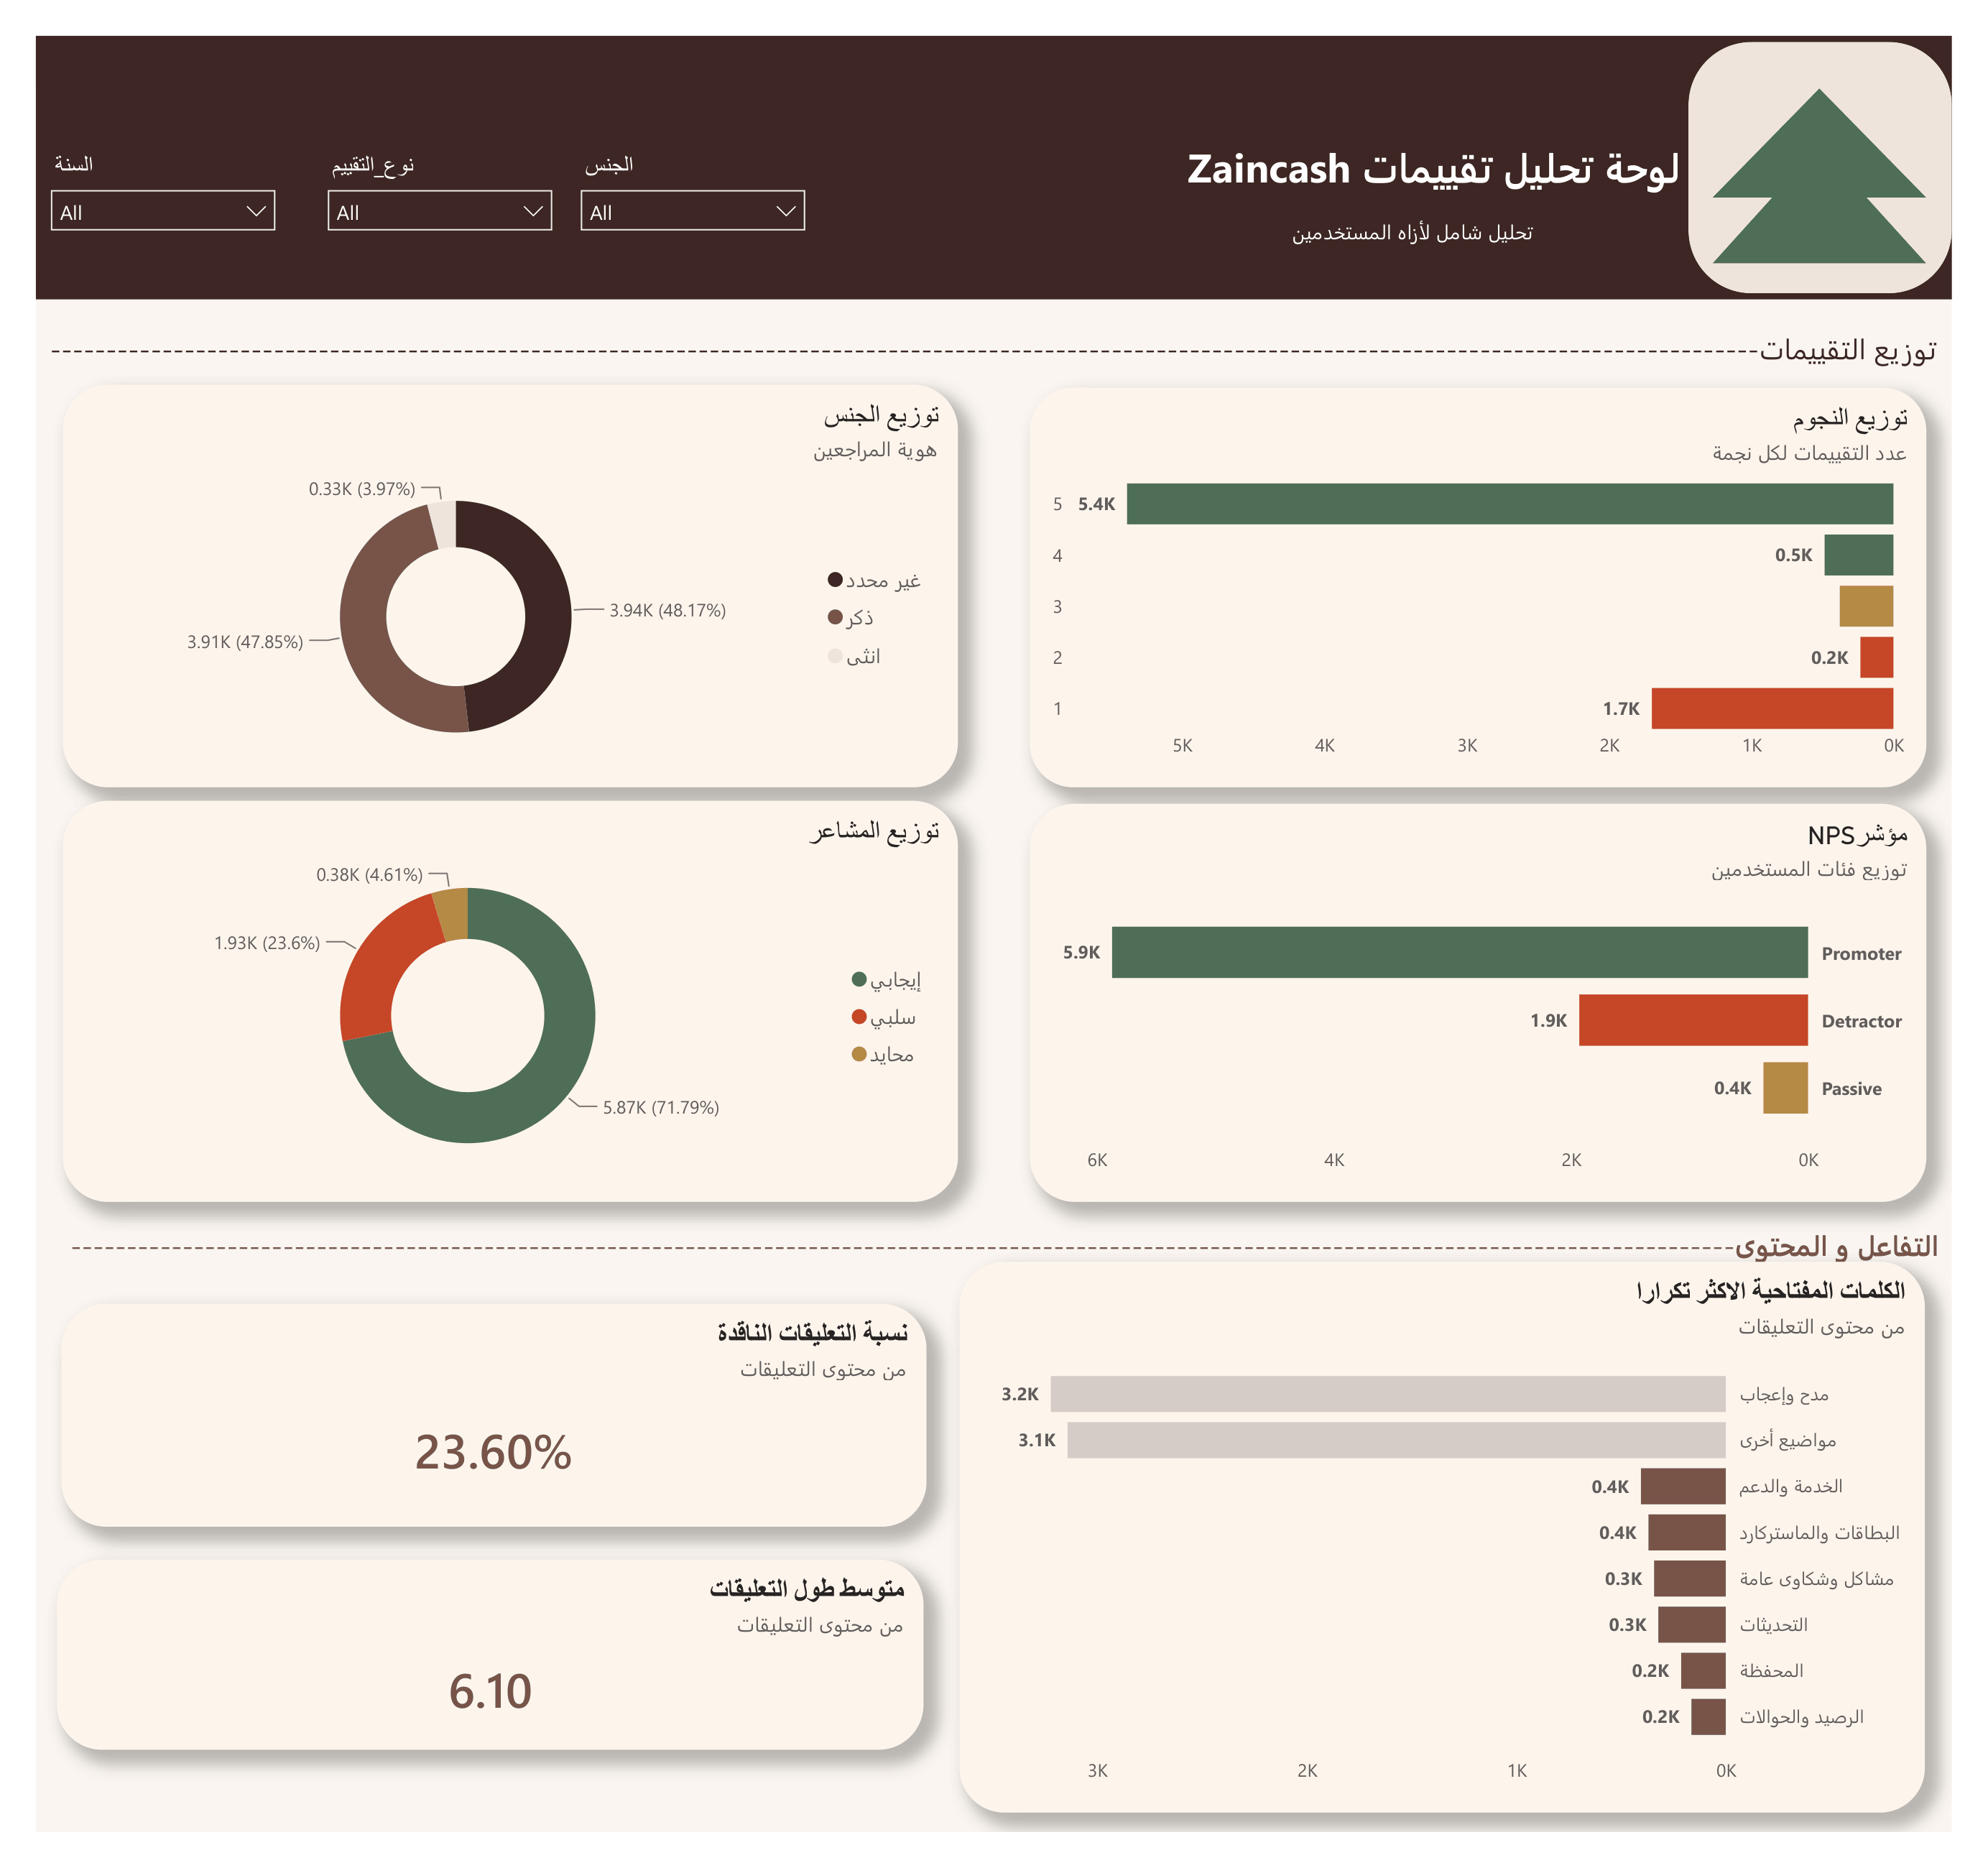

Layout of this report page (visuals, bound fields, positions):
{"tool":"powerbi","page":{"name":"Page 2","canvas":[1280,1200],"ordinal":1},"visuals":[{"type":"shape","box":[0,0,1280.4,176],"z":0},{"type":"shape","box":[1104.4,4.4,176,167.2],"z":1000},{"type":"shape","box":[1119.8,72.6,143,79.2],"z":2000},{"type":"shape","box":[1119.8,35.2,143,72.6],"z":3000},{"type":"textbox","box":[750.2,63.8,354.2,88],"z":4000},{"type":"textbox","box":[833.8,116.6,189.2,59.4],"z":5000},{"type":"slicer","fields":{"Values":["zaincash_reviews_with_analysis.السنة"]},"box":[0,72.6,170,94.6],"z":6000},{"type":"slicer","fields":{"Values":["zaincash_reviews_with_analysis.نوع_التقييم"]},"box":[184.8,72.6,170,94],"z":7000},{"type":"slicer","fields":{"Values":["zaincash_reviews_with_analysis.الجنس"]},"box":[354.2,72.6,170,94.6],"z":8000},{"type":"textbox","box":[0,191.4,1280.4,83.6],"z":9000},{"type":"donutChart","title":"توزيع الجنس","fields":{"Category":["zaincash_reviews_with_analysis.الجنس"],"Y":["zaincash_reviews_with_analysis.إجمالي التقييمات"]},"box":[17.6,233.2,598.4,268.4],"z":10000},{"type":"donutChart","title":"توزيع المشاعر","fields":{"Y":["zaincash_reviews_with_analysis.إجمالي التقييمات"],"Category":["zaincash_reviews_with_analysis.نطاق_التقييم"]},"box":[18,511,598,268],"z":11000},{"type":"barChart","title":"توزيع النجوم","fields":{"Category":["zaincash_reviews_with_analysis.التقييم"],"Y":["zaincash_reviews_with_analysis.إجمالي التقييمات"]},"box":[664.4,235.4,598.4,266.2],"z":12000},{"type":"barChart","title":"NPSمؤشر","fields":{"Y":["zaincash_reviews_with_analysis.إجمالي التقييمات"],"Category":["zaincash_reviews_with_analysis.تصنيف_NPS"]},"box":[664.4,512.6,598.4,266.2],"z":13000},{"type":"textbox","box":[17.6,789.8,1262.8,57.2],"z":14000},{"type":"cardVisual","title":"نسبة التعليقات الناقدة","fields":{"Data":["zaincash_reviews_with_analysis.نسبة التعليقات الناقدة"]},"box":[16.8,847.2,578.4,148.8],"z":15000},{"type":"cardVisual","title":"متوسط طول التعليقات ","fields":{"Data":["zaincash_reviews_with_analysis.متوسط طول التعليق"]},"box":[14.4,1017.6,578.4,127.2],"z":16000},{"type":"barChart","title":"الكلمات المفتاحية الاكثر تكرارا","fields":{"Category":["zaincash_reviews_with_analysis.موضوع التعليق"],"Y":["zaincash_reviews_with_analysis.إجمالي التقييمات"]},"box":[617.3,819.2,644.2,367.3],"z":17000}]}

Visuals, with their boxes in screenshot pixels (x1, y1, x2, y2), scaled from the page's 1280x1200 canvas onto the 1988x1868 screenshot:
shape: region(0, 0, 1987, 274)
shape: region(1715, 7, 1987, 267)
shape: region(1739, 113, 1961, 236)
shape: region(1739, 55, 1961, 168)
textbox: region(1165, 99, 1715, 236)
textbox: region(1295, 182, 1589, 274)
slicer - zaincash_reviews_with_analysis.السنة: region(0, 113, 264, 260)
slicer - zaincash_reviews_with_analysis.نوع_التقييم: region(287, 113, 551, 259)
slicer - zaincash_reviews_with_analysis.الجنس: region(550, 113, 814, 260)
textbox: region(0, 298, 1987, 428)
"توزيع الجنس" donutChart: region(27, 363, 957, 781)
"توزيع المشاعر" donutChart: region(28, 795, 957, 1213)
"توزيع النجوم" barChart: region(1032, 366, 1961, 781)
"NPSمؤشر" barChart: region(1032, 798, 1961, 1212)
textbox: region(27, 1229, 1987, 1318)
"نسبة التعليقات الناقدة" cardVisual: region(26, 1319, 925, 1550)
"متوسط طول التعليقات " cardVisual: region(22, 1584, 920, 1782)
"الكلمات المفتاحية الاكثر تكرارا" barChart: region(958, 1275, 1959, 1847)
